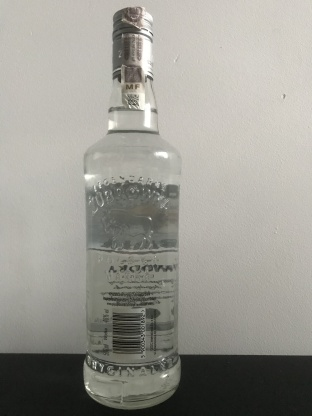nakretka: (110, 4, 155, 81)
